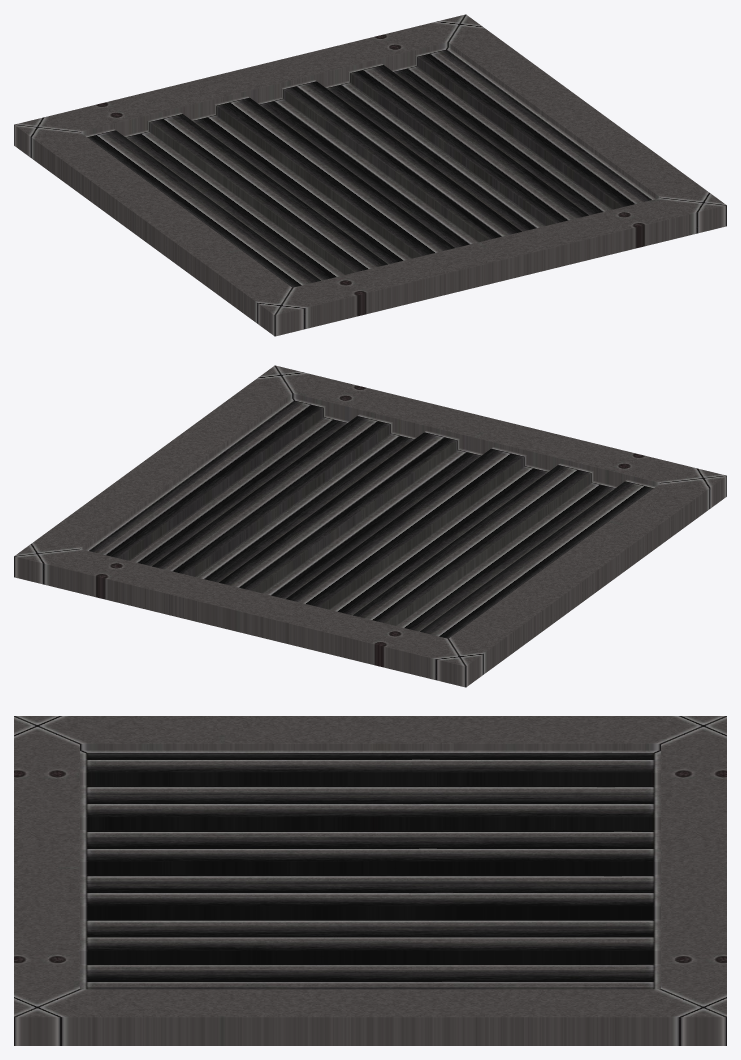
The model's file is electrical box.glb.
The picture shows the model from 3 angles, top to bottom: view 1: azimuth 30°, elevation 25°; view 2: azimuth 150°, elevation 25°; view 3: azimuth 270°, elevation 25°; orthographic projection. The views are drawn at different scales.
Parts seen in each view (by area): view 1: Vent; view 2: Vent; view 3: Vent.
Boxes of the visible parts, left/top/right/bottom form: Vent: left=14, top=14, right=726, bottom=336; Vent: left=14, top=365, right=726, bottom=687; Vent: left=14, top=716, right=726, bottom=1045.
Bounding box in the file's own units: 0.6227 × 0.0275 × 0.6227.
Materials: 1 (1 with a texture image).
